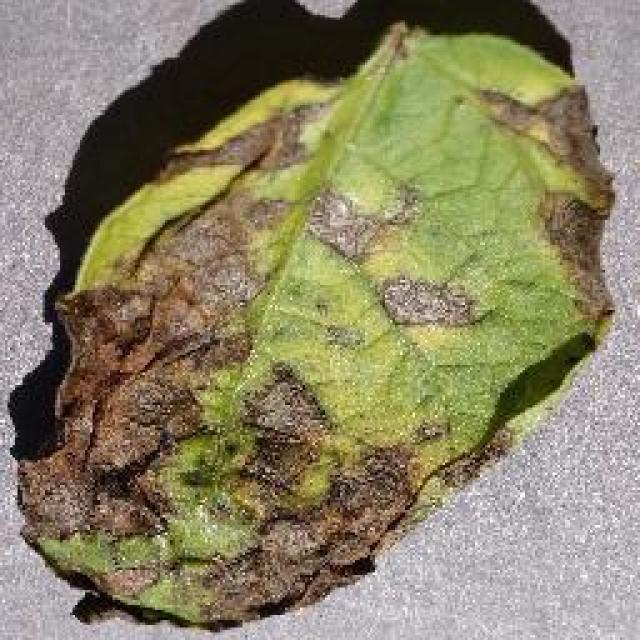Potato___Early_blight: (15, 15, 619, 636)
